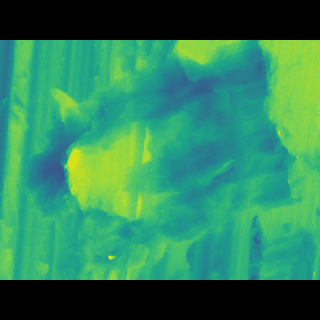Loch: (25, 79, 303, 246)
